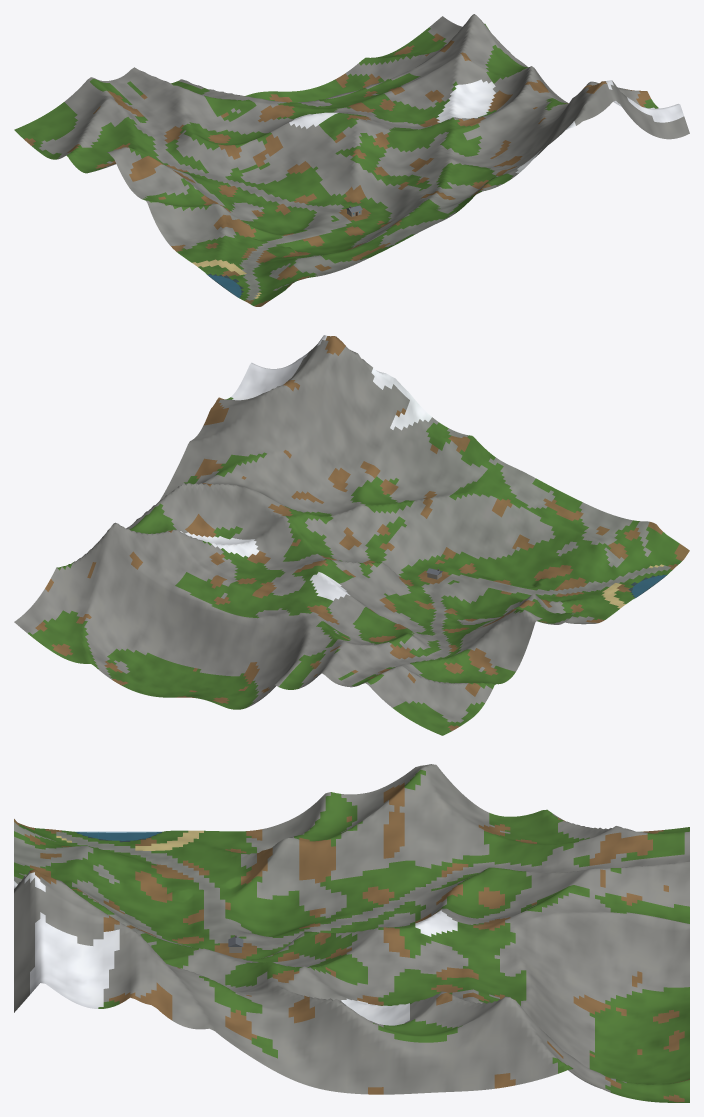
The model's file is chunk_3_1.glb.
The picture shows the model from 3 angles, top to bottom: view 1: azimuth 30°, elevation 25°; view 2: azimuth 150°, elevation 25°; view 3: azimuth 270°, elevation 25°; orthographic projection. The views are drawn at different scales.
Parts seen in each view (by area): view 1: Surface_Gravel, Surface_Grass, Surface_Dirt, Surface_Snow; view 2: Surface_Gravel, Surface_Grass, Surface_Dirt, Surface_Snow; view 3: Surface_Gravel, Surface_Grass, Surface_Dirt, Surface_Snow, Water, Surface_Sand, Surface_Water.
Boxes of the visible parts, box(x1,y1,x2,y2) form: Surface_Gravel: box(39, 14, 689, 300); Surface_Grass: box(14, 24, 658, 305); Surface_Dirt: box(24, 33, 650, 306); Surface_Snow: box(289, 79, 683, 173); Surface_Gravel: box(14, 340, 670, 722); Surface_Grass: box(27, 397, 681, 735); Surface_Dirt: box(35, 336, 689, 730); Surface_Snow: box(180, 335, 431, 600); Surface_Gravel: box(14, 764, 689, 1094); Surface_Grass: box(14, 769, 689, 1102); Surface_Dirt: box(14, 782, 689, 1102); Surface_Snow: box(14, 872, 457, 1025); Water: box(75, 831, 161, 840); Surface_Sand: box(56, 830, 203, 850); Surface_Water: box(77, 832, 161, 842).
Bounding box in the file's own units: 256 × 99.6 × 256.
